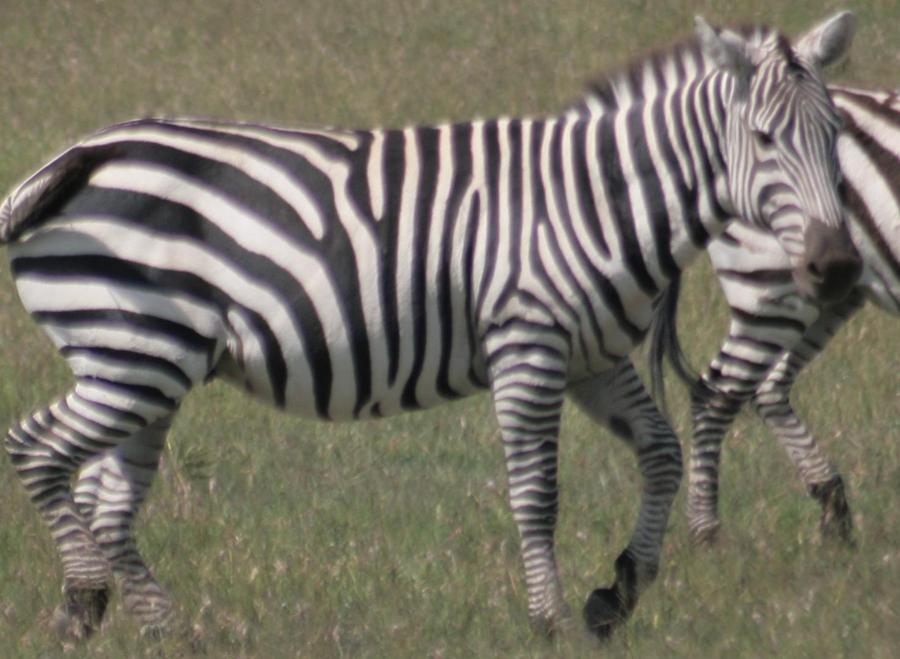zebra_plains: (19, 70, 617, 440)
